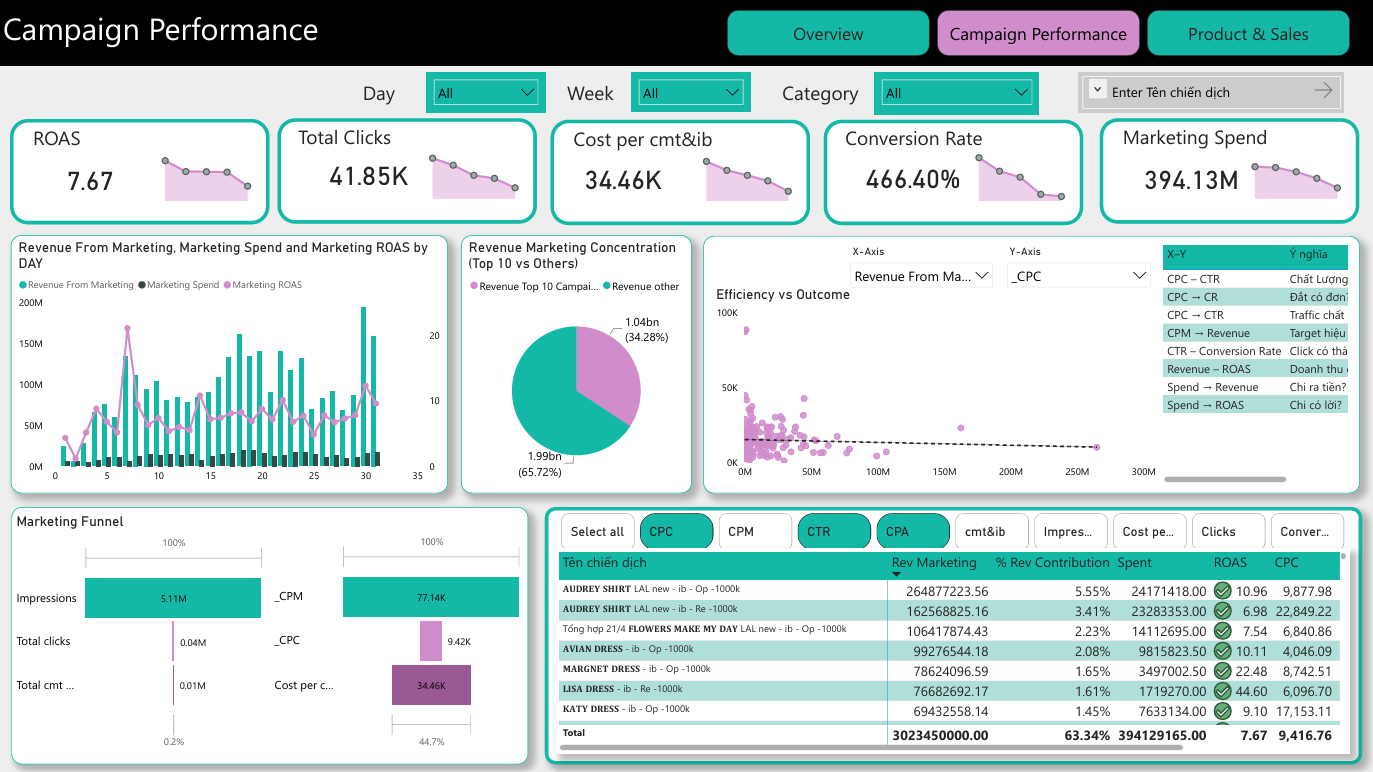

What the dashboard file says about the page in this screenshot:
{"tool":"powerbi","page":{"name":"Campaign Performance","canvas":[1920,1080],"ordinal":1},"visuals":[{"type":"textbox","box":[0,0,1920,93],"z":0},{"type":"textbox","box":[787.3,107.1,111.6,43.3],"z":0,"group":"g11"},{"type":"textbox","box":[502.2,107.2,111.1,44.5],"z":0,"group":"g12"},{"type":"textbox","box":[1087.4,107.2,157.2,44.4],"z":0,"group":"g13"},{"type":"shape","box":[387.7,166.1,361.6,146.6],"z":0,"group":"g4"},{"type":"shape","box":[1535.3,166.1,361.6,146.6],"z":0,"group":"g8"},{"type":"group","id":"g1","title":"Group 1","box":[15.1,166.7,361.6,146.6],"z":0,"group":"g9"},{"type":"shape","box":[15.1,166.7,361.6,146.6],"z":0,"group":"g1"},{"type":"shape","box":[769.2,168,361.6,146.6],"z":0,"group":"g6"},{"type":"shape","box":[1150.1,168,361.6,146.6],"z":0,"group":"g7"},{"type":"group","id":"g2","title":"Scatter_2","box":[994.9,339.3,622.8,337.5],"z":0,"group":"g10"},{"type":"group","id":"g3","title":"Slicer Scatter","box":[1176.7,339.3,438.6,72.9],"z":0,"group":"g2"},{"type":"slicer","fields":{"Values":["Prmt_AXis.Prmt_AXis"]},"box":[1176.7,339.3,219.3,72.9],"z":0,"group":"g3"},{"type":"shape","box":[17,708,721.2,358.7],"z":0,"group":"g14"},{"type":"funnel","title":"Marketing Funnel","fields":{"Y":["Measure.Total impressions","Measure.Total clicks","Measure.Total cmt + ib"]},"box":[18.9,716.7,356.6,335.3],"z":0,"group":"g5"},{"type":"pivotTable","fields":{"Values":["Measure.Revenue From Marketing","Measure.% Revenue Contribution","Measure.Marketing Spend","Measure.Marketing ROAS","Measure._CPC","Measure.CPA","Measure._CTR"],"Rows":["mkt_camp_cost.Tên chiến dịch"]},"box":[775.9,766,1108.2,287],"z":0,"group":"g16"},{"type":"textbox","box":[0,6.3,582.3,79.3],"z":1000},{"type":"slicer","fields":{"Values":["Dim_Date.DAY"]},"box":[596.4,101.9,165.8,57],"z":1000,"group":"g12"},{"type":"slicer","fields":{"Values":["Dim_Date.Week"]},"box":[881.8,101.9,166.4,55.4],"z":1000,"group":"g11"},{"type":"slicer","fields":{"Values":["danh sach san pham.Danh mục"]},"box":[1221.8,101.9,229.1,58.6],"z":1000,"group":"g13"},{"type":"group","id":"g4","title":"Group 1","box":[387.7,166.1,361.6,146.6],"z":1000,"group":"g9"},{"type":"cardVisual","fields":{"Data":["Measure.Total clicks"]},"box":[412.4,188.8,215.4,105.9],"z":1000,"group":"g4"},{"type":"cardVisual","fields":{"Data":["Measure.Conversion Rate (Click → Order)"]},"box":[1161.2,189.1,233.7,113.2],"z":1000,"group":"g7"},{"type":"cardVisual","fields":{"Data":["Measure.Marketing ROAS"]},"box":[47,189.2,208.5,117.1],"z":1000,"group":"g1"},{"type":"cardVisual","fields":{"Data":["Measure.Marketing Spend"]},"box":[1550.3,189.8,230.3,115.2],"z":1000,"group":"g8"},{"type":"cardVisual","fields":{"Data":["Measure.Cost per cmt + ib"]},"box":[768.9,194.8,240.2,105.7],"z":1000,"group":"g6"},{"type":"shape","box":[981.7,330.4,915.6,358.7],"z":1000,"group":"g15"},{"type":"tableEx","fields":{"Values":["Recommend chart.X–Y","Recommend chart.Ý nghĩa"]},"box":[1618.3,338,266.2,341.4],"z":1000,"group":"g10"},{"type":"slicer","fields":{"Values":["Prmt_Yxis.Prmt_Yxis"]},"box":[1396,339.3,219.3,72.9],"z":1000,"group":"g3"},{"type":"scatterChart","title":"Efficiency vs Outcome","fields":{"X":["Measure.Revenue From Marketing"],"Y":["Measure._CPC"],"Category":["mkt_camp_cost.Tên chiến dịch"]},"box":[994.9,400.3,622.8,276.5],"z":1000,"group":"g2"},{"type":"shape","box":[760.8,708,1140.3,358.7],"z":1000,"group":"g16"},{"type":"group","id":"g5","title":"Funnel","box":[18.9,716.7,715.5,345.2],"z":1000,"group":"g14"},{"type":"funnel","title":"Marketing Funnel","fields":{"Y":["Measure._CPM","Measure._CPC","Measure.Cost per cmt + ib"]},"box":[378.6,725.9,355.9,336],"z":1000,"group":"g5"},{"type":"group","id":"g6","title":"Group 1","box":[768.9,168,361.4,147.3],"z":2000,"group":"g9"},{"type":"lineChart","fields":{"Category":["Dim_Date.Week"],"Y":["Measure.Total clicks"]},"box":[588,199.7,147.6,84.3],"z":2000,"group":"g4"},{"type":"lineChart","fields":{"Category":["Dim_Date.Week"],"Y":["Measure.Marketing Spend"]},"box":[1735.6,199.7,147.6,84.3],"z":2000,"group":"g8"},{"type":"lineChart","fields":{"Category":["Dim_Date.Week"],"Y":["Measure.Marketing ROAS"]},"box":[215.4,200.3,147.6,84.3],"z":2000,"group":"g1"},{"type":"lineChart","fields":{"Category":["Dim_Date.Week"],"Y":["Measure.Cost per cmt + ib"]},"box":[969.5,201.6,147.6,84.3],"z":2000,"group":"g6"},{"type":"lineChart","fields":{"Category":["Dim_Date.Week"],"Y":["Measure.Conversion Rate (Click → Order)"]},"box":[1350.4,201.6,147.6,84.3],"z":2000,"group":"g7"},{"type":"lineClusteredColumnComboChart","fields":{"Y":["Measure.Revenue From Marketing","Measure.Marketing Spend"],"Category":["Dim_Date.DAY"],"Y2":["Measure.Marketing ROAS"]},"box":[16.3,329.4,609.9,360.1],"z":2000},{"type":"advancedSlicerVisual","fields":{"Values":["Parameter_table.Parameter_table"]},"box":[779.2,711.7,1105.7,61.5],"z":2000,"group":"g16"},{"type":"textbox","box":[411.2,167.8,237.9,54.3],"z":3000,"group":"g4"},{"type":"textbox","box":[1562,167.8,234.1,54.3],"z":3000,"group":"g8"},{"type":"group","id":"g7","title":"Group 1","box":[1150.1,168,361.6,146.6],"z":3000,"group":"g9"},{"type":"textbox","box":[41.8,168.4,234.1,54.3],"z":3000,"group":"g1"},{"type":"textbox","box":[1175.5,169.2,266.1,54.7],"z":3000,"group":"g7"},{"type":"textbox","box":[795.9,169.7,234.1,54.3],"z":3000,"group":"g6"},{"type":"pieChart","title":"Revenue Marketing  Concentration (Top 10 vs Others)","fields":{"Y":["Measure.Revenue Top 10 Campaigns","Measure.Revenue other"]},"box":[644.2,329.4,322.1,360.1],"z":3000},{"type":"pageNavigator","box":[1015.5,14.7,871.7,64.5],"z":4000},{"type":"group","id":"g8","title":"Group 1","box":[1535.3,166.1,361.6,146.6],"z":4000,"group":"g9"},{"type":"group","id":"g9","title":"Group 2","box":[15.1,166.1,1882.2,149.1],"z":5000},{"type":"group","id":"g10","title":"ScatterP2","box":[994.9,338,889.2,341.7],"z":5000,"group":"g15"},{"type":"group","id":"g11","title":"Week","box":[787.3,101.9,260.5,56.6],"z":6000},{"type":"group","id":"g12","title":"Week","box":[502.2,101.9,258.6,56.6],"z":7000},{"type":"group","id":"g13","title":"Category","box":[1087.4,101.9,364.4,56.6],"z":8000},{"type":"textSlicer","fields":{"Values":["danh sach san pham.Tên sản phẩm"]},"box":[1506.5,101.9,364.4,54.7],"z":9000},{"type":"group","id":"g14","title":"Funnel","box":[17,708,721.2,358.7],"z":10000},{"type":"group","id":"g15","title":"Group 3","box":[981.7,330.4,915.6,358.7],"z":11000},{"type":"group","id":"g16","title":"Group 4","box":[760.8,708,1140.3,358.7],"z":12000}]}

Visuals, with their boxes in screenshot pixels (x1, y1, x2, y2), scaled from the page's 1920x1080 canvas onto the 1373x772 screenshot:
textbox: bbox=[0, 0, 1372, 66]
textbox: bbox=[563, 77, 643, 108]
textbox: bbox=[359, 77, 439, 108]
textbox: bbox=[778, 77, 890, 108]
shape: bbox=[277, 119, 536, 224]
shape: bbox=[1098, 119, 1356, 224]
"Group 1" group: bbox=[11, 119, 269, 224]
shape: bbox=[11, 119, 269, 224]
shape: bbox=[550, 120, 809, 225]
shape: bbox=[822, 120, 1081, 225]
"Scatter_2" group: bbox=[711, 243, 1157, 484]
"Slicer Scatter" group: bbox=[841, 243, 1155, 295]
slicer - Prmt_AXis.Prmt_AXis: bbox=[841, 243, 998, 295]
shape: bbox=[12, 506, 528, 762]
"Marketing Funnel" funnel: bbox=[14, 512, 269, 752]
pivotTable - Measure.Revenue From Marketing x Measure.% Revenue Contribution: bbox=[555, 548, 1347, 753]
textbox: bbox=[0, 5, 416, 61]
slicer - Dim_Date.DAY: bbox=[426, 73, 545, 114]
slicer - Dim_Date.Week: bbox=[631, 73, 750, 112]
slicer - danh sach san pham.Danh mục: bbox=[874, 73, 1038, 115]
"Group 1" group: bbox=[277, 119, 536, 224]
cardVisual - Measure.Total clicks: bbox=[295, 135, 449, 211]
cardVisual - Measure.Conversion Rate (Click → Order): bbox=[830, 135, 997, 216]
cardVisual - Measure.Marketing ROAS: bbox=[34, 135, 183, 219]
cardVisual - Measure.Marketing Spend: bbox=[1109, 136, 1273, 218]
cardVisual - Measure.Cost per cmt + ib: bbox=[550, 139, 722, 215]
shape: bbox=[702, 236, 1357, 493]
tableEx - Recommend chart.X–Y x Recommend chart.Ý nghĩa: bbox=[1157, 242, 1348, 486]
slicer - Prmt_Yxis.Prmt_Yxis: bbox=[998, 243, 1155, 295]
"Efficiency vs Outcome" scatterChart: bbox=[711, 286, 1157, 484]
shape: bbox=[544, 506, 1359, 762]
"Funnel" group: bbox=[14, 512, 525, 759]
"Marketing Funnel" funnel: bbox=[271, 519, 525, 759]
"Group 1" group: bbox=[550, 120, 808, 225]
lineChart - Dim_Date.Week x Measure.Total clicks: bbox=[420, 143, 526, 203]
lineChart - Dim_Date.Week x Measure.Marketing Spend: bbox=[1241, 143, 1347, 203]
lineChart - Dim_Date.Week x Measure.Marketing ROAS: bbox=[154, 143, 260, 203]
lineChart - Dim_Date.Week x Measure.Cost per cmt + ib: bbox=[693, 144, 799, 204]
lineChart - Dim_Date.Week x Measure.Conversion Rate (Click → Order): bbox=[966, 144, 1071, 204]
lineClusteredColumnComboChart - Measure.Revenue From Marketing x Measure.Marketing Spend: bbox=[12, 235, 448, 493]
advancedSlicerVisual - Parameter_table.Parameter_table: bbox=[557, 509, 1348, 553]
textbox: bbox=[294, 120, 464, 159]
textbox: bbox=[1117, 120, 1284, 159]
"Group 1" group: bbox=[822, 120, 1081, 225]
textbox: bbox=[30, 120, 197, 159]
textbox: bbox=[841, 121, 1031, 160]
textbox: bbox=[569, 121, 737, 160]
"Revenue Marketing  Concentration (Top 10 vs Others)" pieChart: bbox=[461, 235, 691, 493]
pageNavigator: bbox=[726, 11, 1350, 57]
"Group 1" group: bbox=[1098, 119, 1356, 224]
"Group 2" group: bbox=[11, 119, 1357, 225]
"ScatterP2" group: bbox=[711, 242, 1347, 486]
"Week" group: bbox=[563, 73, 749, 113]
"Week" group: bbox=[359, 73, 544, 113]
"Category" group: bbox=[778, 73, 1038, 113]
textSlicer - danh sach san pham.Tên sản phẩm: bbox=[1077, 73, 1338, 112]
"Funnel" group: bbox=[12, 506, 528, 762]
"Group 3" group: bbox=[702, 236, 1357, 493]
"Group 4" group: bbox=[544, 506, 1359, 762]
